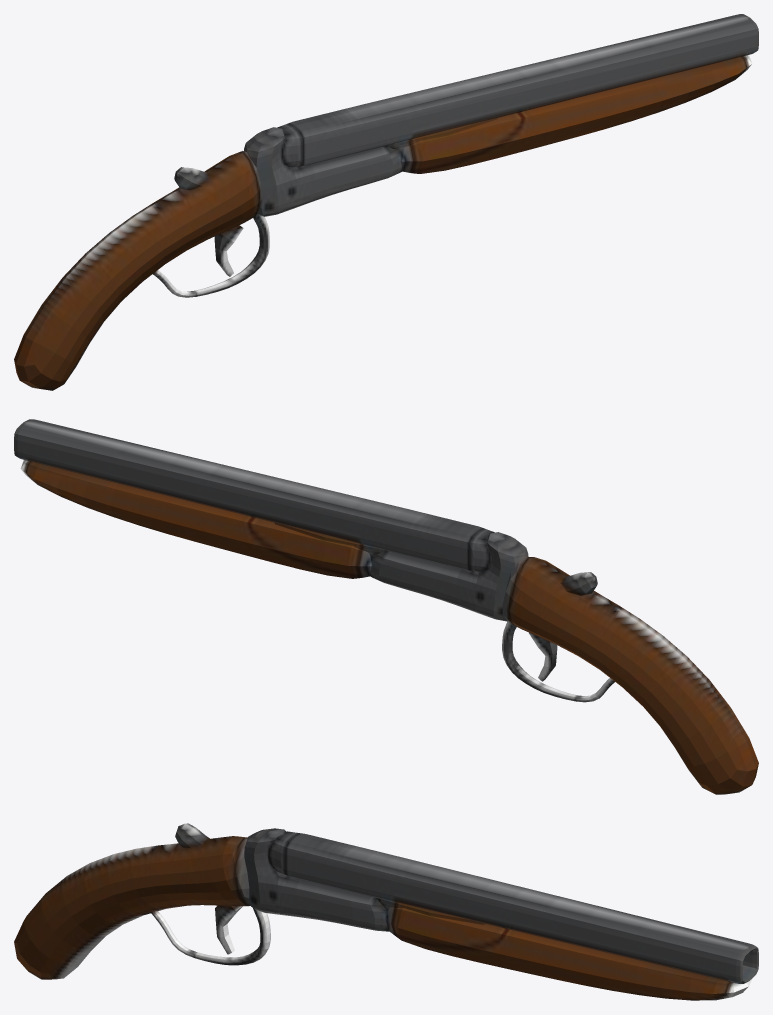
Rendered from escopeta.glb.
3 renders of one model, top to bottom at view 1: azimuth 30°, elevation 25°; view 2: azimuth 150°, elevation 25°; view 3: azimuth 330°, elevation 25°, orthographic.
Visible parts, largest first — view 1: Cube.006; view 2: Cube.006; view 3: Cube.006.
Part boxes in pixels (x1=…): Cube.006: x1=14, y1=14, x2=758, y2=390; Cube.006: x1=14, y1=419, x2=758, y2=794; Cube.006: x1=14, y1=823, x2=758, y2=1000.
Bounding box in the file's own units: 7.66 × 2.03 × 0.5397.
1 material, 1 textured.
